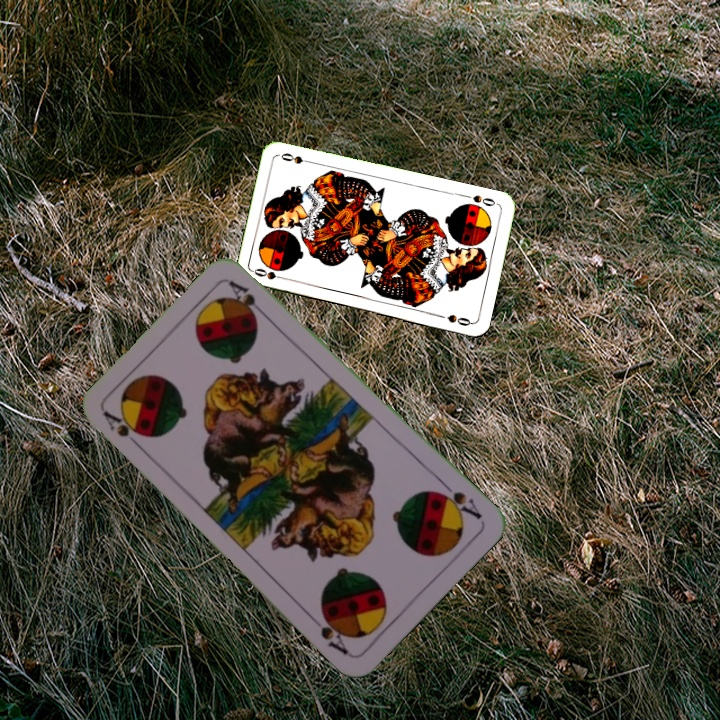SA: (432, 477, 485, 522), (100, 407, 147, 454)
SO: (250, 264, 290, 283), (469, 191, 500, 209)
